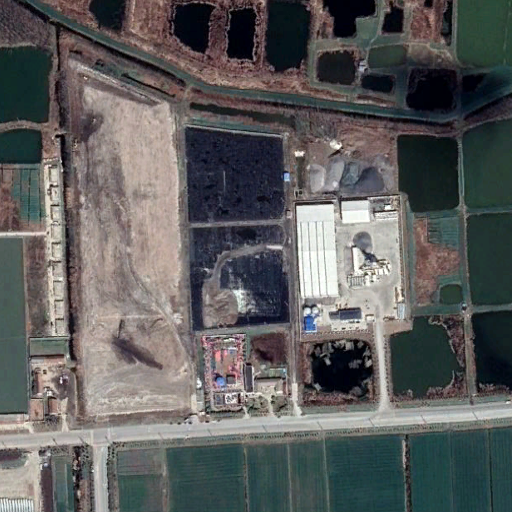lf: (184, 126, 295, 327)
